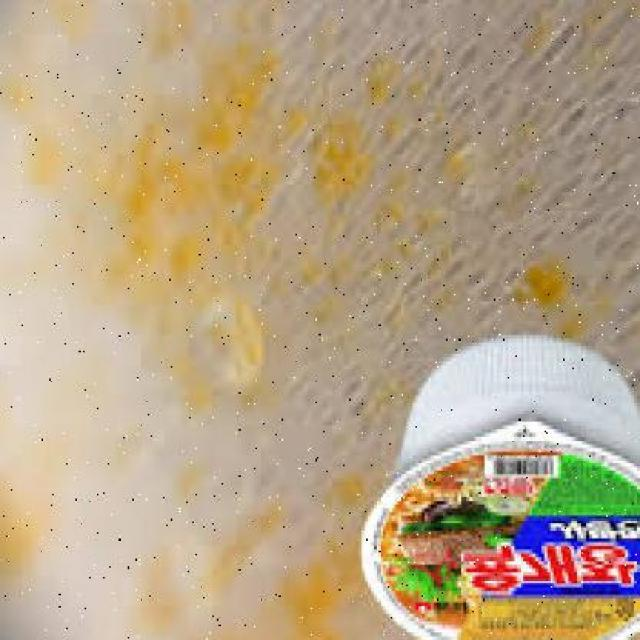Miscellaneous: (361, 335, 640, 639)
